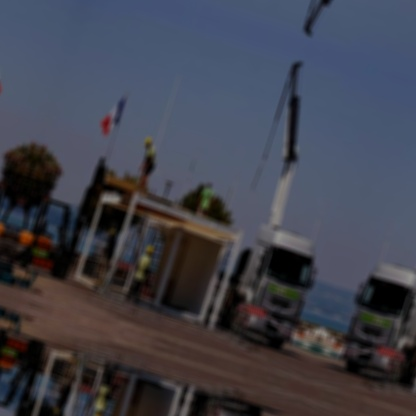yellow: (143, 242, 155, 256), (142, 133, 153, 147)
